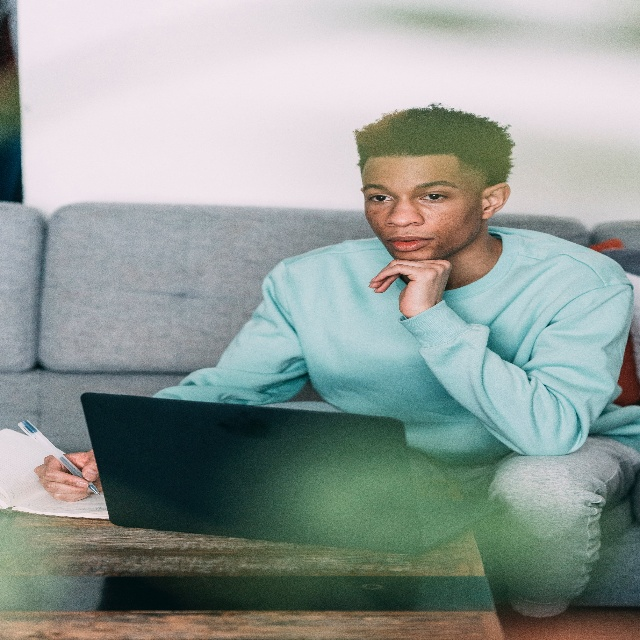Sin_guantes: (368, 255, 452, 317), (32, 447, 104, 501)
